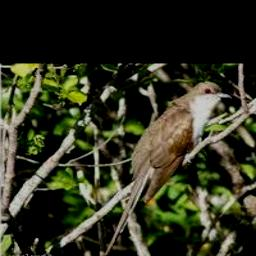Cuckoo: (105, 81, 233, 256)
